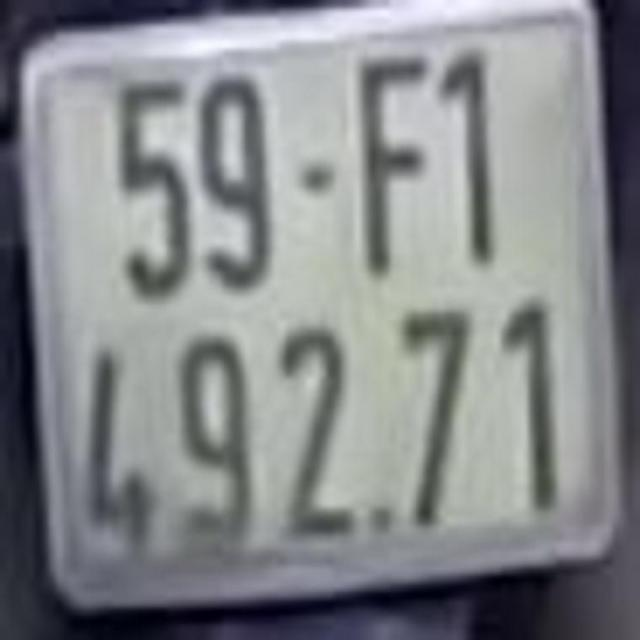1: (491, 292, 570, 518), (435, 48, 509, 267)
2: (270, 322, 360, 544)
4: (74, 344, 167, 571)
5: (109, 72, 192, 299)
7: (398, 295, 477, 523)
9: (168, 335, 261, 554), (193, 66, 274, 297)
F: (354, 47, 433, 276)
